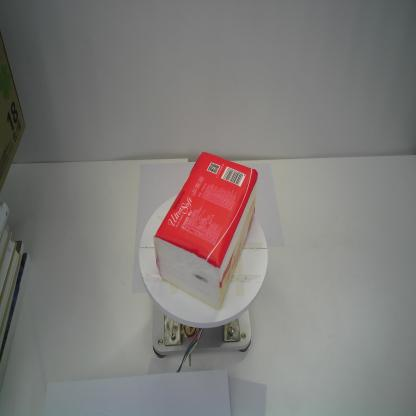Tissue: (152, 150, 258, 312)
